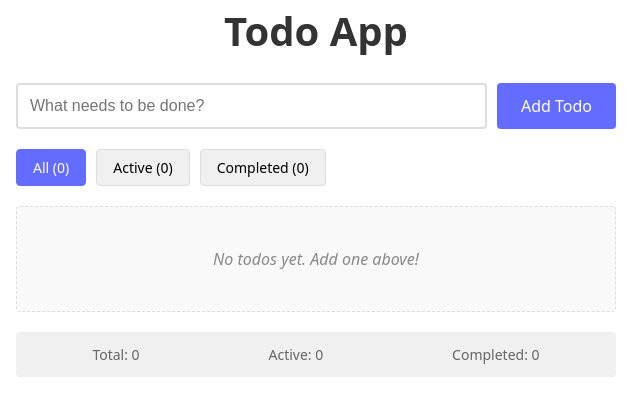
Todos Component › adds a new todo when clicking add button
Type "Test Todo" into the field with test id "todo-input".
click(252, 106); type("Test Todo")  # box x1=16 y1=83 x2=487 y2=129
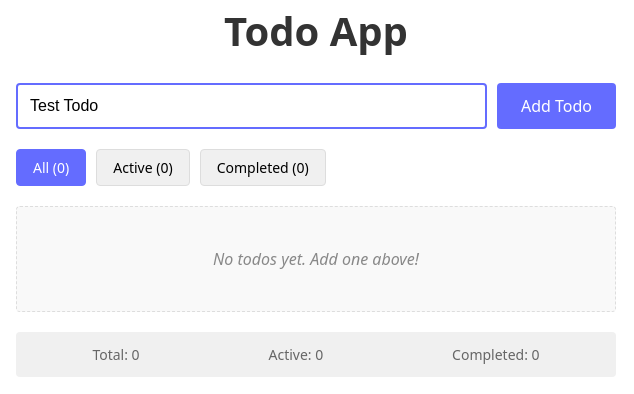
Click the button with test id "add-todo-button".
click(556, 106)  # box x1=497 y1=83 x2=616 y2=129
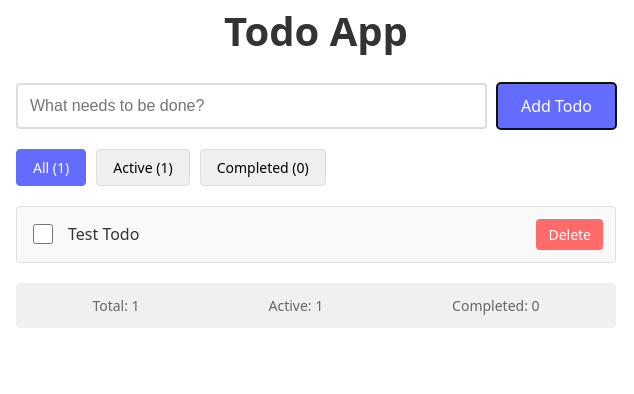
Check: the text "Test Todo" is shown, box x1=68 y1=223 x2=139 y2=245
